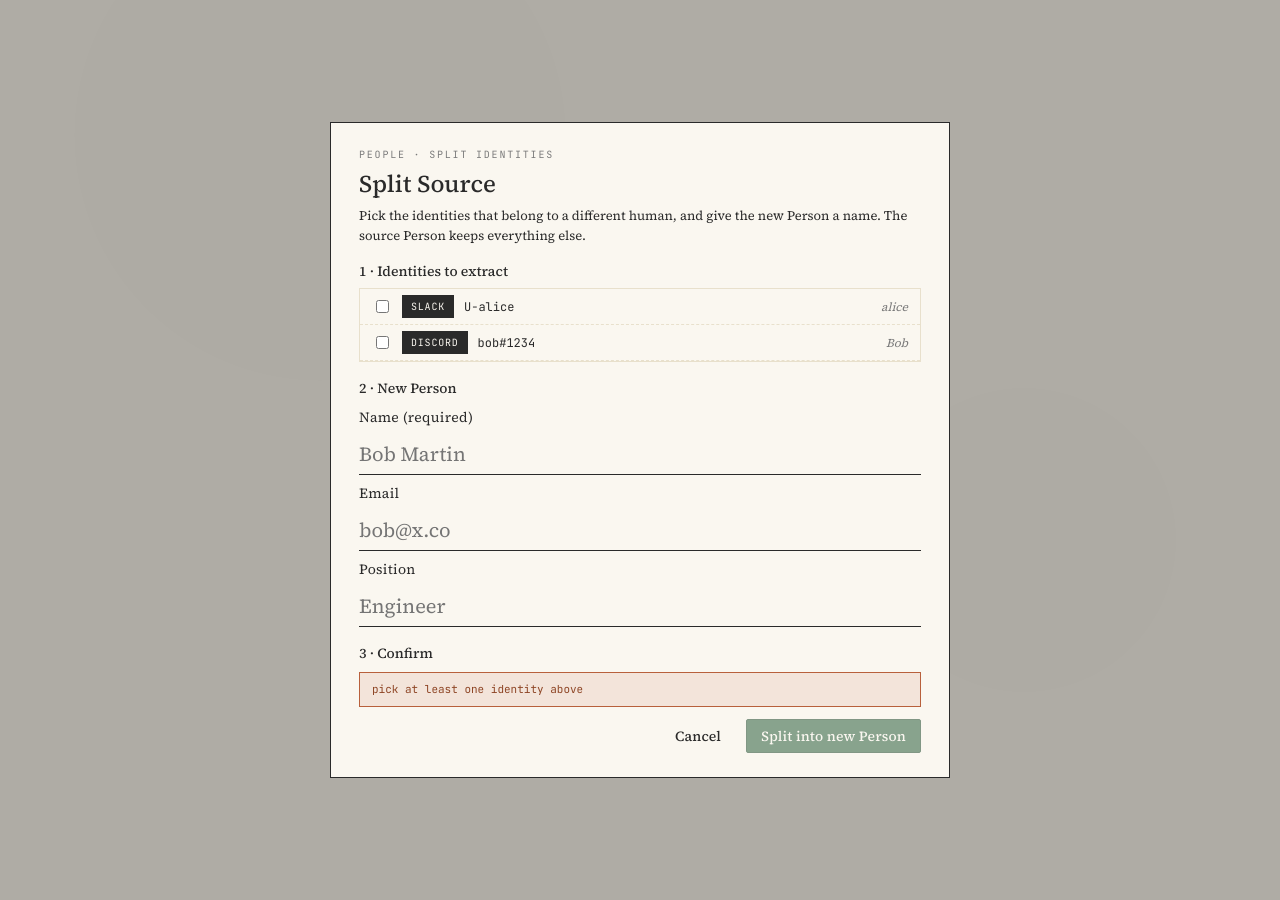
Test: SplitDialog › shows an error when the split endpoint returns 4xx
The image size is (1280, 900).
Click the checkbox with test id "split-checkbox-slack-U-alice" at (382, 307), box [376,300,389,313]
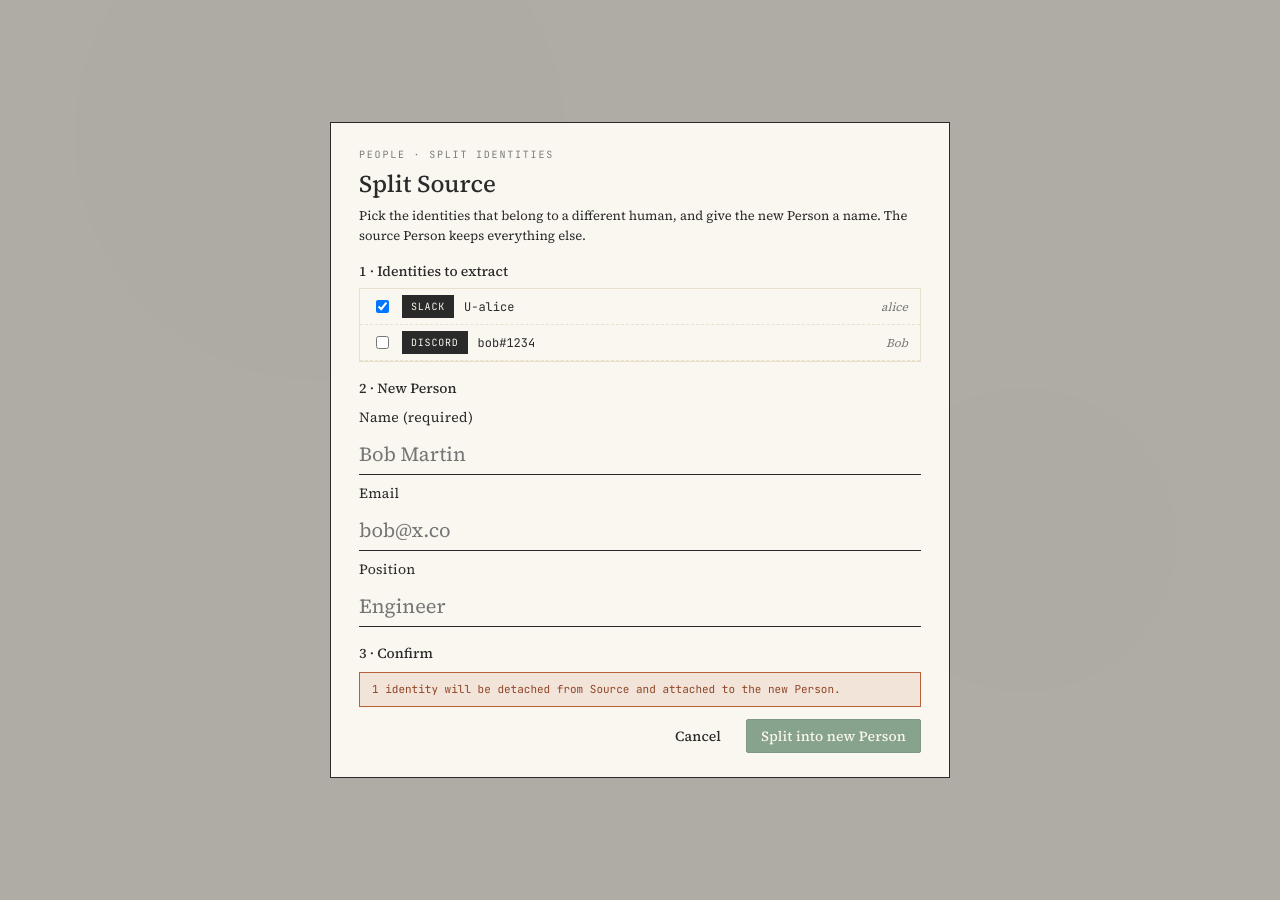
Type "X" into the field with test id "split-name" at (640, 455), box [359,434,921,475]
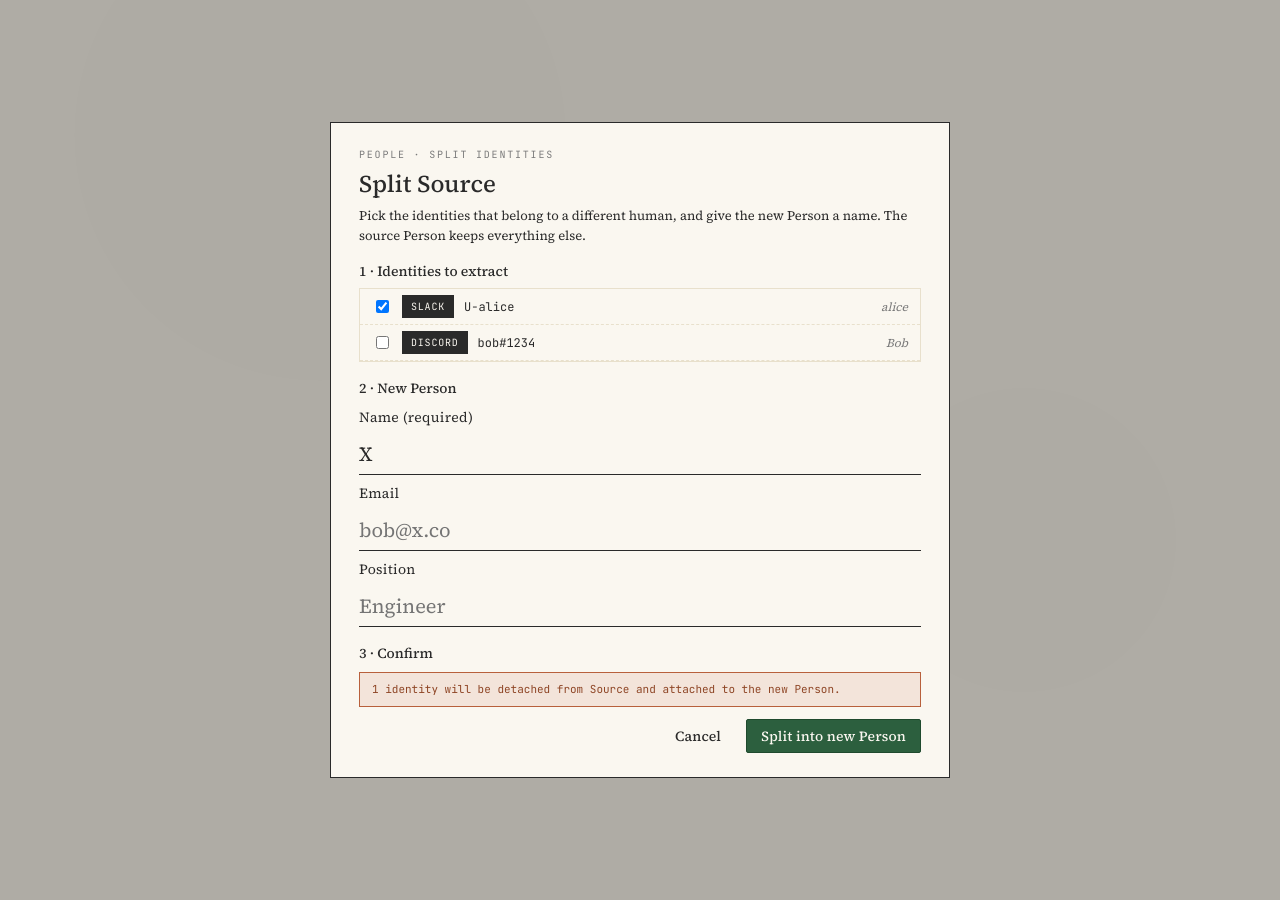
Click the button with test id "split-confirm" at (834, 736), box [746,719,921,753]
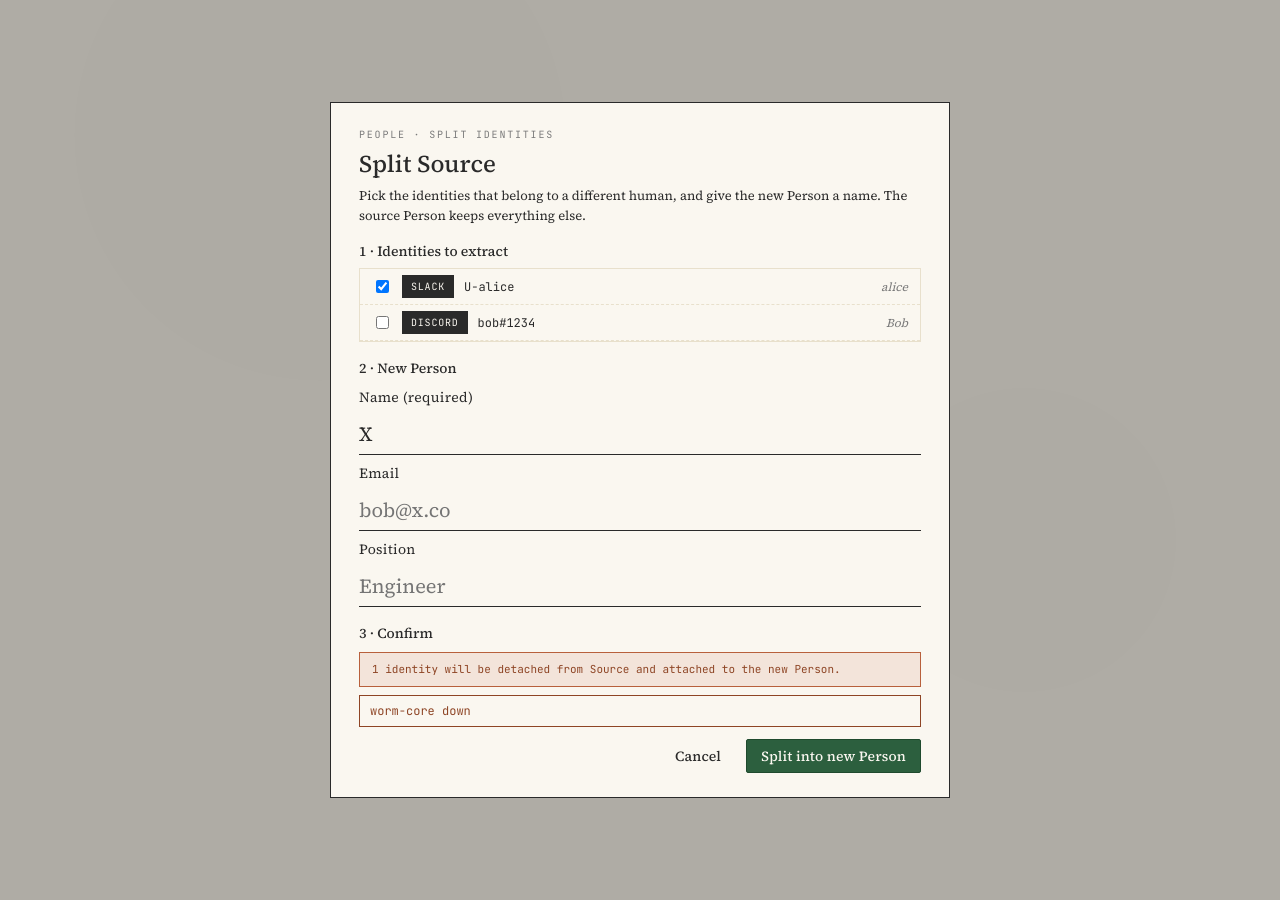
Result: the message with test id "split-error" reads "worm-core down" at [370,703,471,719]
